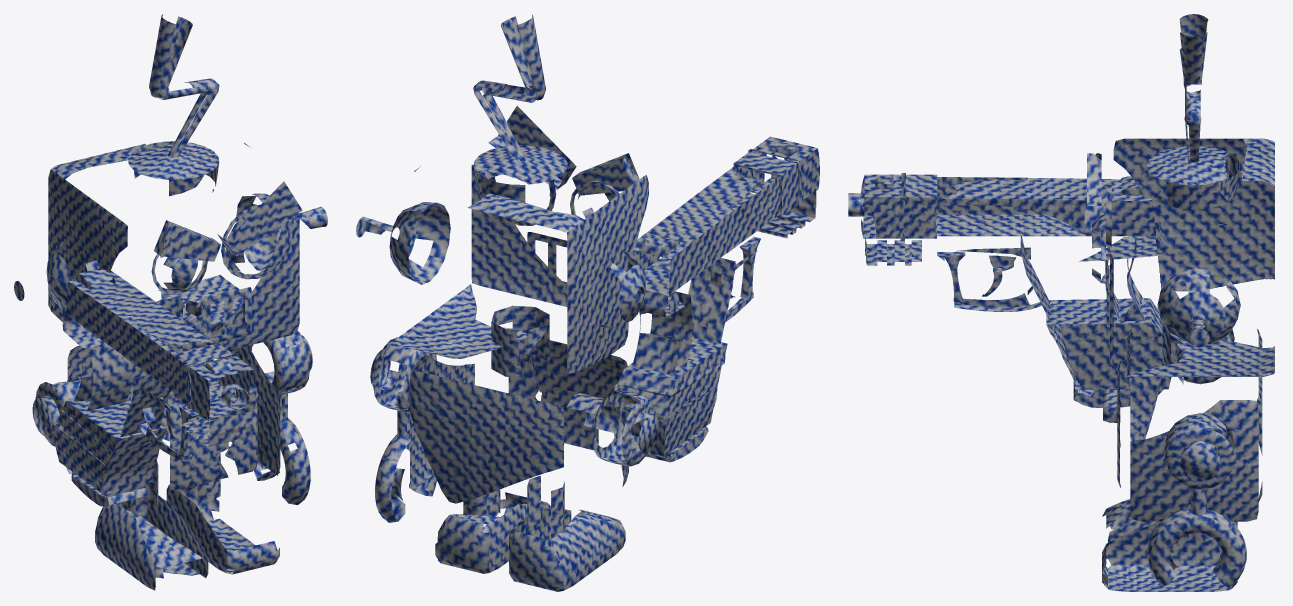
Rendered from OBJ_OmegaRobot.fbx.
3 views of the same model, side by side, from view 1: azimuth 30°, elevation 25°; view 2: azimuth 150°, elevation 25°; view 3: azimuth 270°, elevation 25° (orthographic). The views are drawn at different scales.
Parts seen in each view (by area): view 1: Box059; view 2: Box059; view 3: Box059.
Part boxes in pixels (left/top/right/bottom): Box059: left=14, top=14, right=327, bottom=590; Box059: left=356, top=15, right=819, bottom=591; Box059: left=848, top=14, right=1274, bottom=591.
Bounding box in the file's own units: 40.42 × 67.58 × 48.51.
